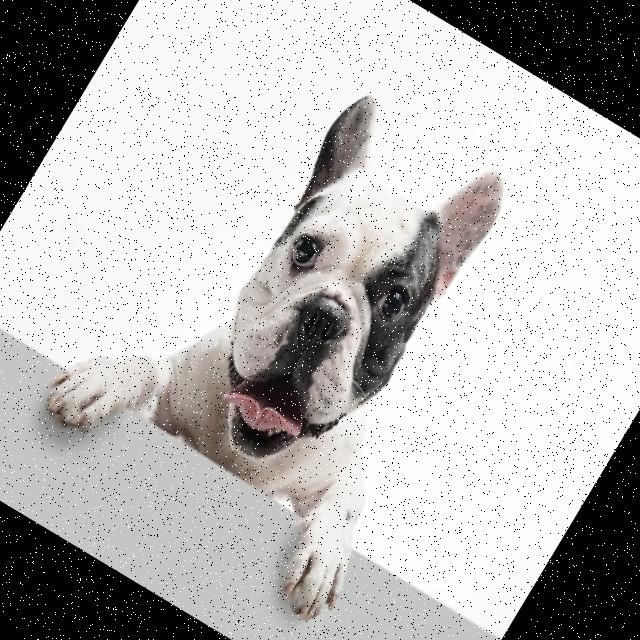Dog: (14, 29, 570, 630)
